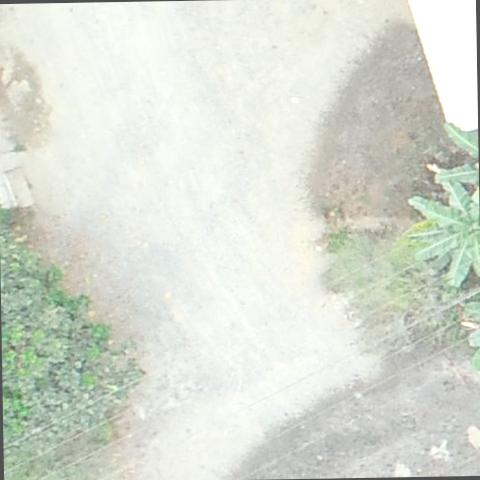Banana-plant: (407, 170, 480, 291)
